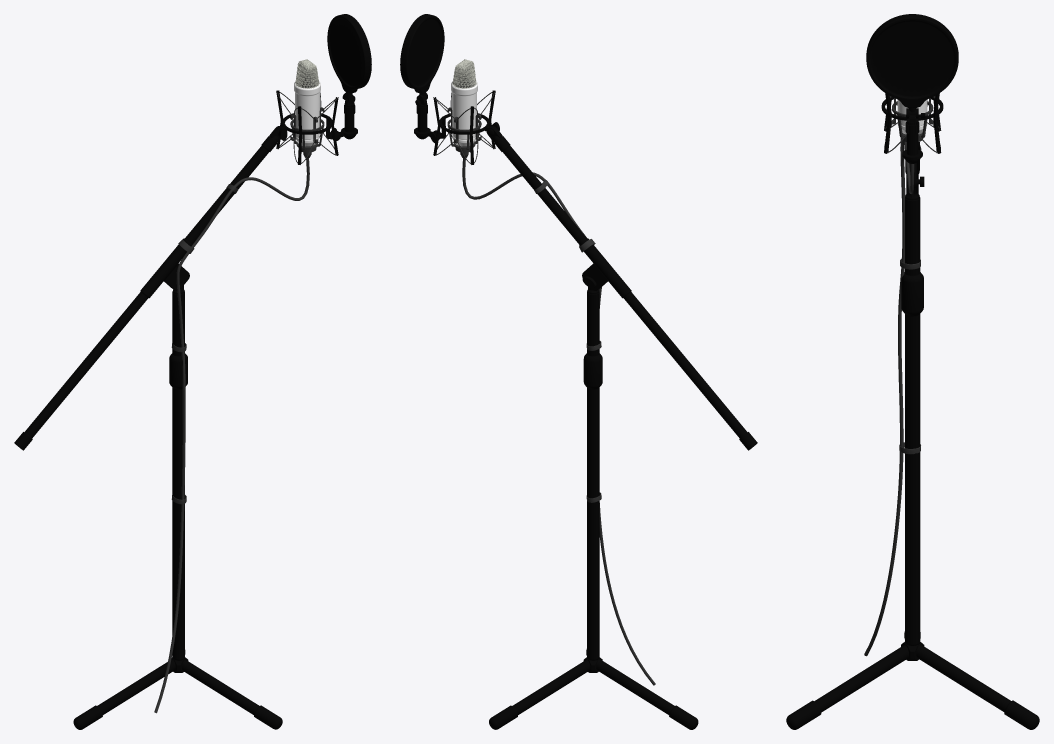
Rendered from mic-transformed.glb.
The picture shows the model from 3 angles, left to right: view 1: azimuth 30°, elevation 25°; view 2: azimuth 150°, elevation 25°; view 3: azimuth 270°, elevation 25°; orthographic projection. The views are drawn at different scales.
Parts seen in each view (by area): view 1: Object_6, Object_4; view 2: Object_6, Object_4; view 3: Object_6, Object_4.
Boxes of the visible parts, x1,y1,x2,y2 form: Object_6: [14, 64, 357, 729]; Object_4: [295, 14, 371, 93]; Object_6: [414, 67, 757, 729]; Object_4: [400, 14, 476, 93]; Object_6: [786, 93, 1039, 729]; Object_4: [866, 14, 958, 107].
Size of the model in its own units: 1.59 by 2.88 by 0.8399.
2 materials, 2 textured.
